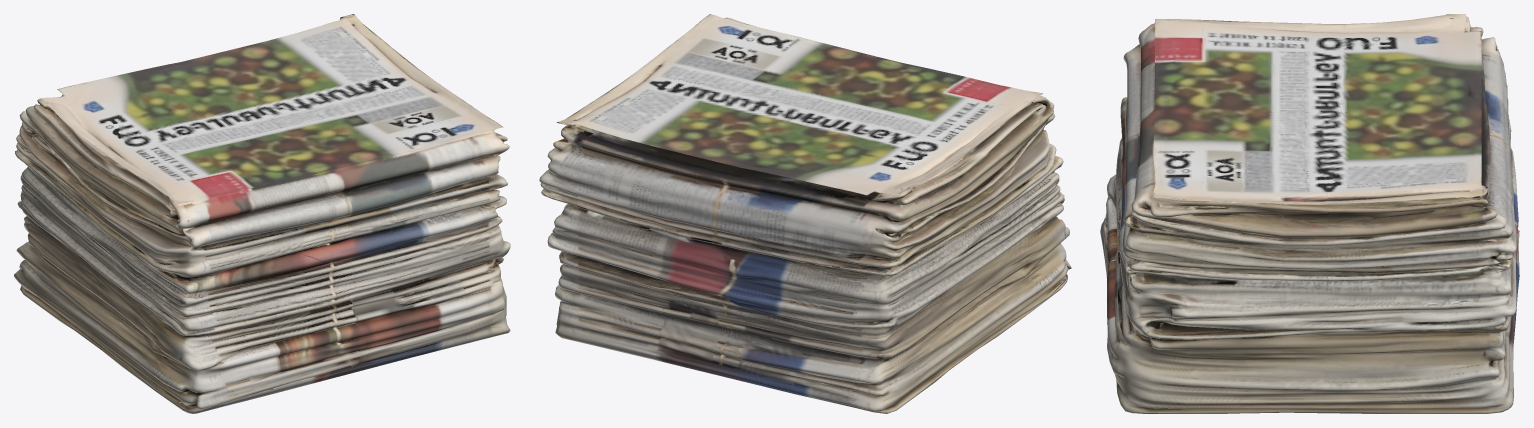
Rendered from Pile_of_newspapers_0213164227_texture.fbx.
3 views of the same model, side by side, from view 1: azimuth 30°, elevation 25°; view 2: azimuth 150°, elevation 25°; view 3: azimuth 270°, elevation 25° (orthographic). The views are drawn at different scales.
Parts seen in each view (by area): view 1: Mesh_0; view 2: Mesh_0; view 3: Mesh_0.
Part boxes in pixels (left/top/right/bottom): Mesh_0: left=14, top=14, right=510, bottom=413; Mesh_0: left=539, top=14, right=1071, bottom=413; Mesh_0: left=1100, top=14, right=1519, bottom=413.
Size of the model in its own units: 200 by 112 by 186.
Materials: 1 (1 with a texture image).
